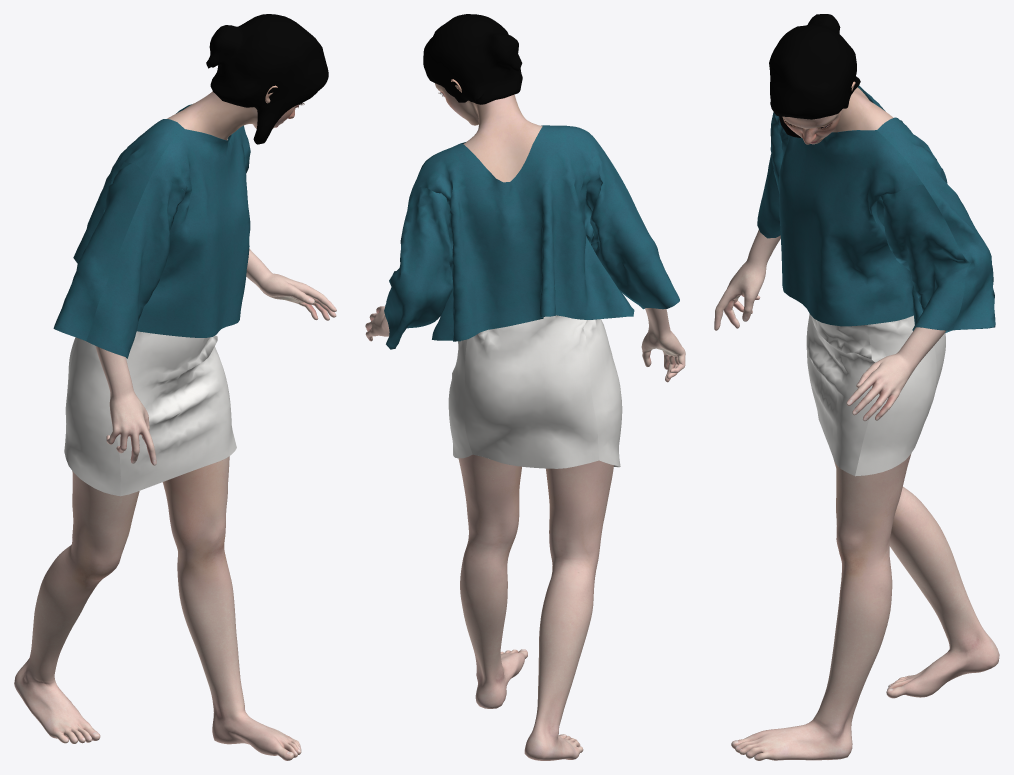
Rendered from Custom_View_6__random.obj.
3 views of the same model, side by side, from view 1: azimuth 30°, elevation 25°; view 2: azimuth 150°, elevation 25°; view 3: azimuth 270°, elevation 25° (orthographic). The views are drawn at different scales.
Size of the model in its own units: 742 by 1681 by 585.
